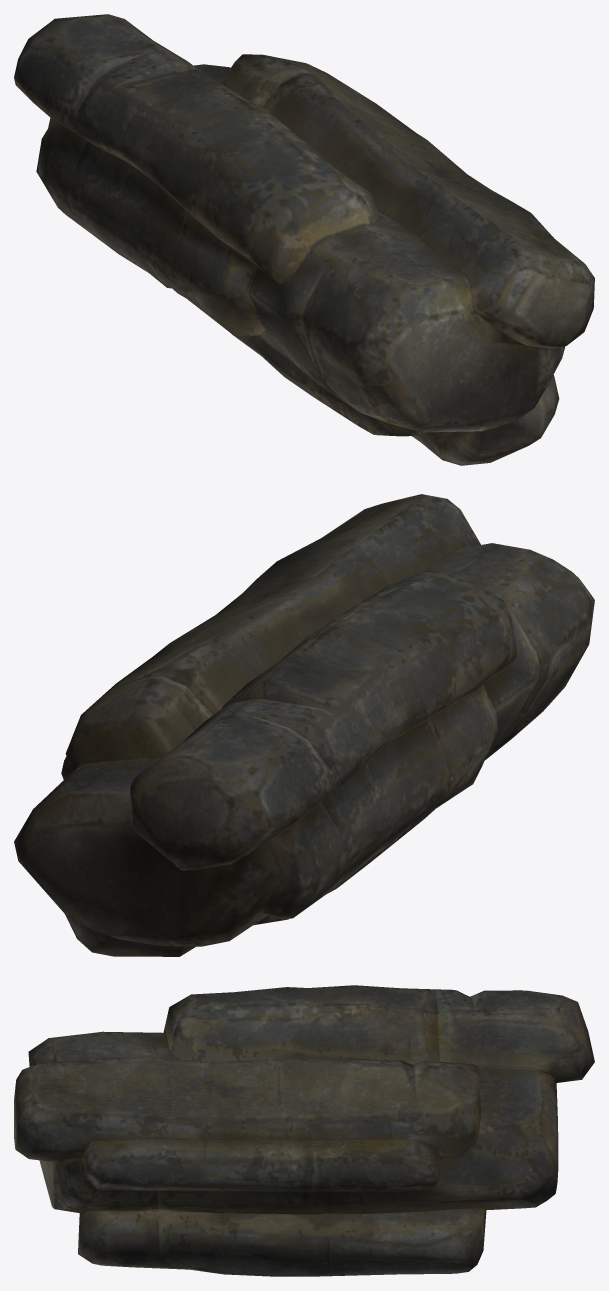
Rendered from rock_pillar_01.obj.
3 renders of one model, top to bottom at view 1: azimuth 30°, elevation 25°; view 2: azimuth 150°, elevation 25°; view 3: azimuth 270°, elevation 25°, orthographic. The views are drawn at different scales.
Parts seen in each view (by area): view 1: rock_pillar_01; view 2: rock_pillar_01; view 3: rock_pillar_01.
Boxes of the visible parts, x1,y1,x2,y2 form: rock_pillar_01: [14, 14, 594, 465]; rock_pillar_01: [14, 494, 594, 956]; rock_pillar_01: [14, 985, 594, 1276].
Bounding box in the file's own units: 4.66 × 4.24 × 10.
1 material, 1 textured.
